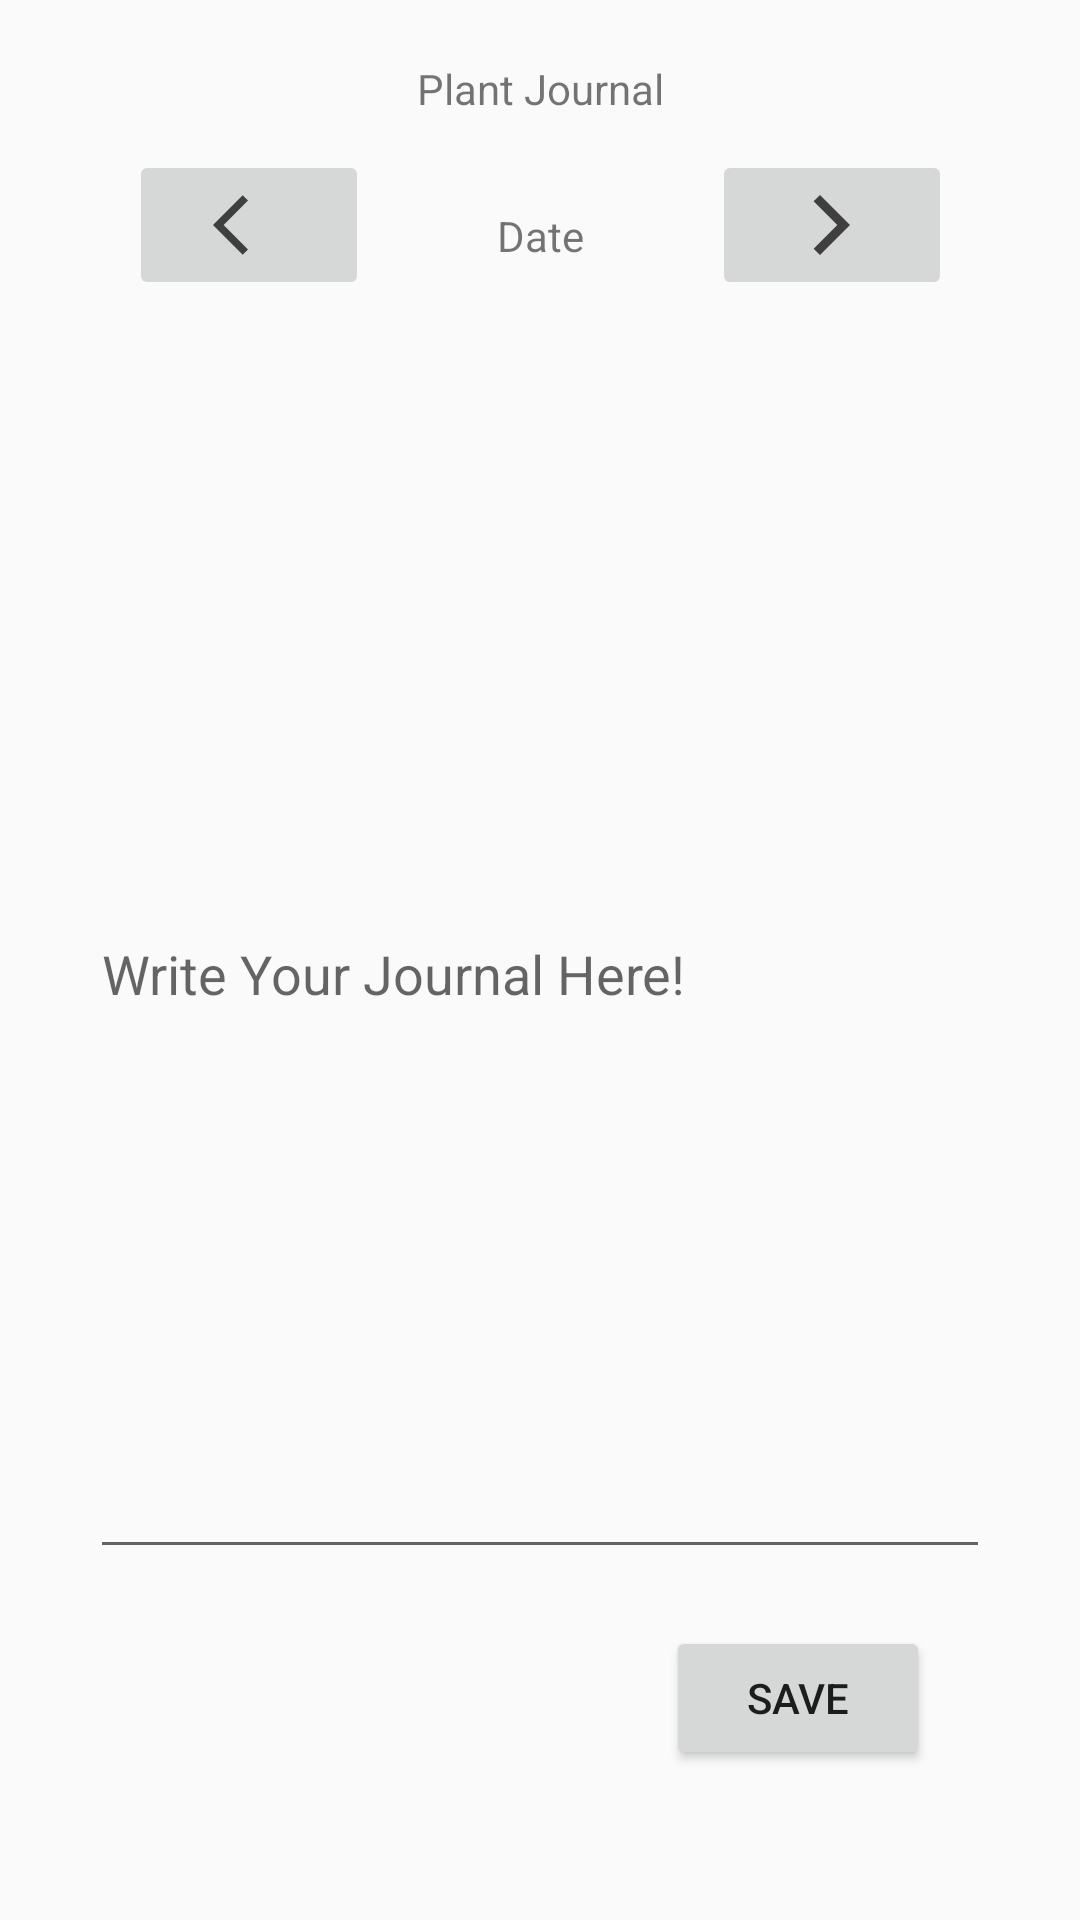

Screen size 1080x1920. Icon name, then its box in pixels as box(x1, y1, x2, y2):
back arrow: box(141, 168, 357, 282)
front arrow: box(724, 168, 940, 282)
